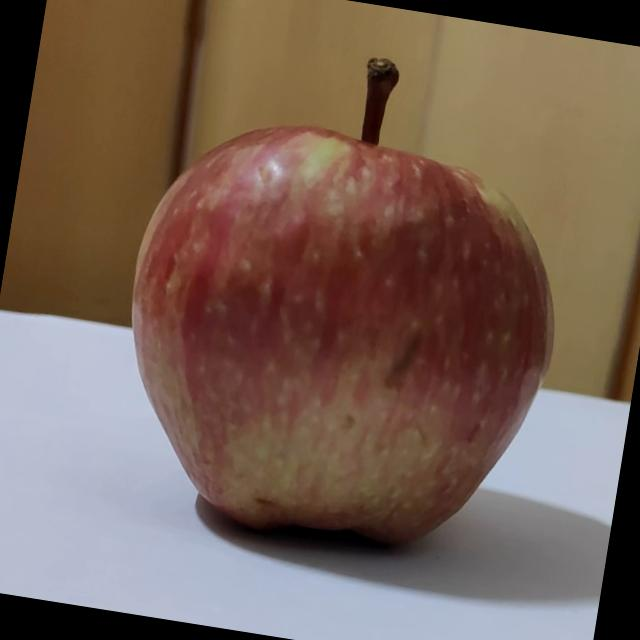apple: (93, 18, 612, 577)
